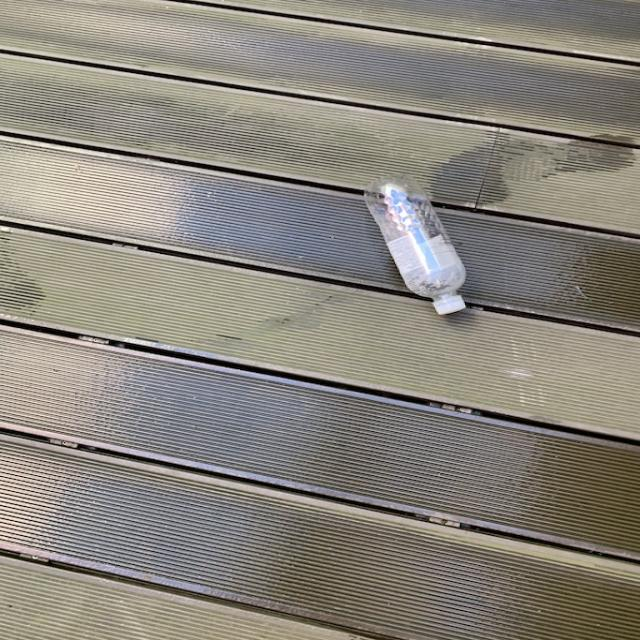Waste: (368, 175, 466, 314)
